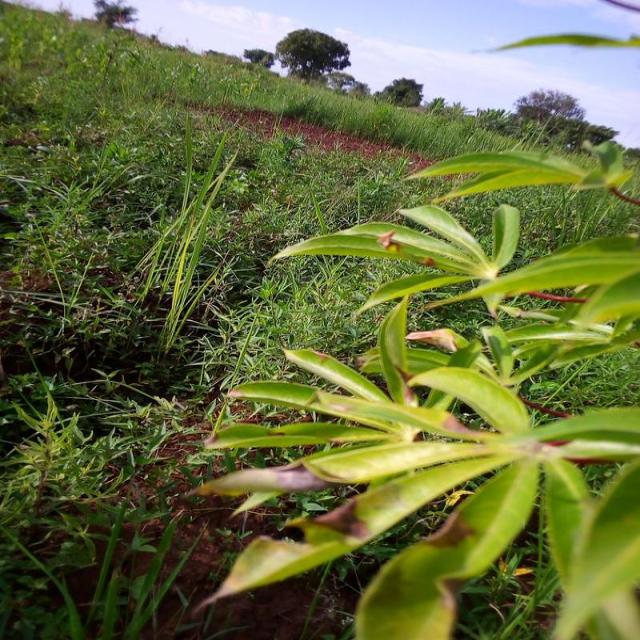cassava leaf: (188, 141, 638, 638)
